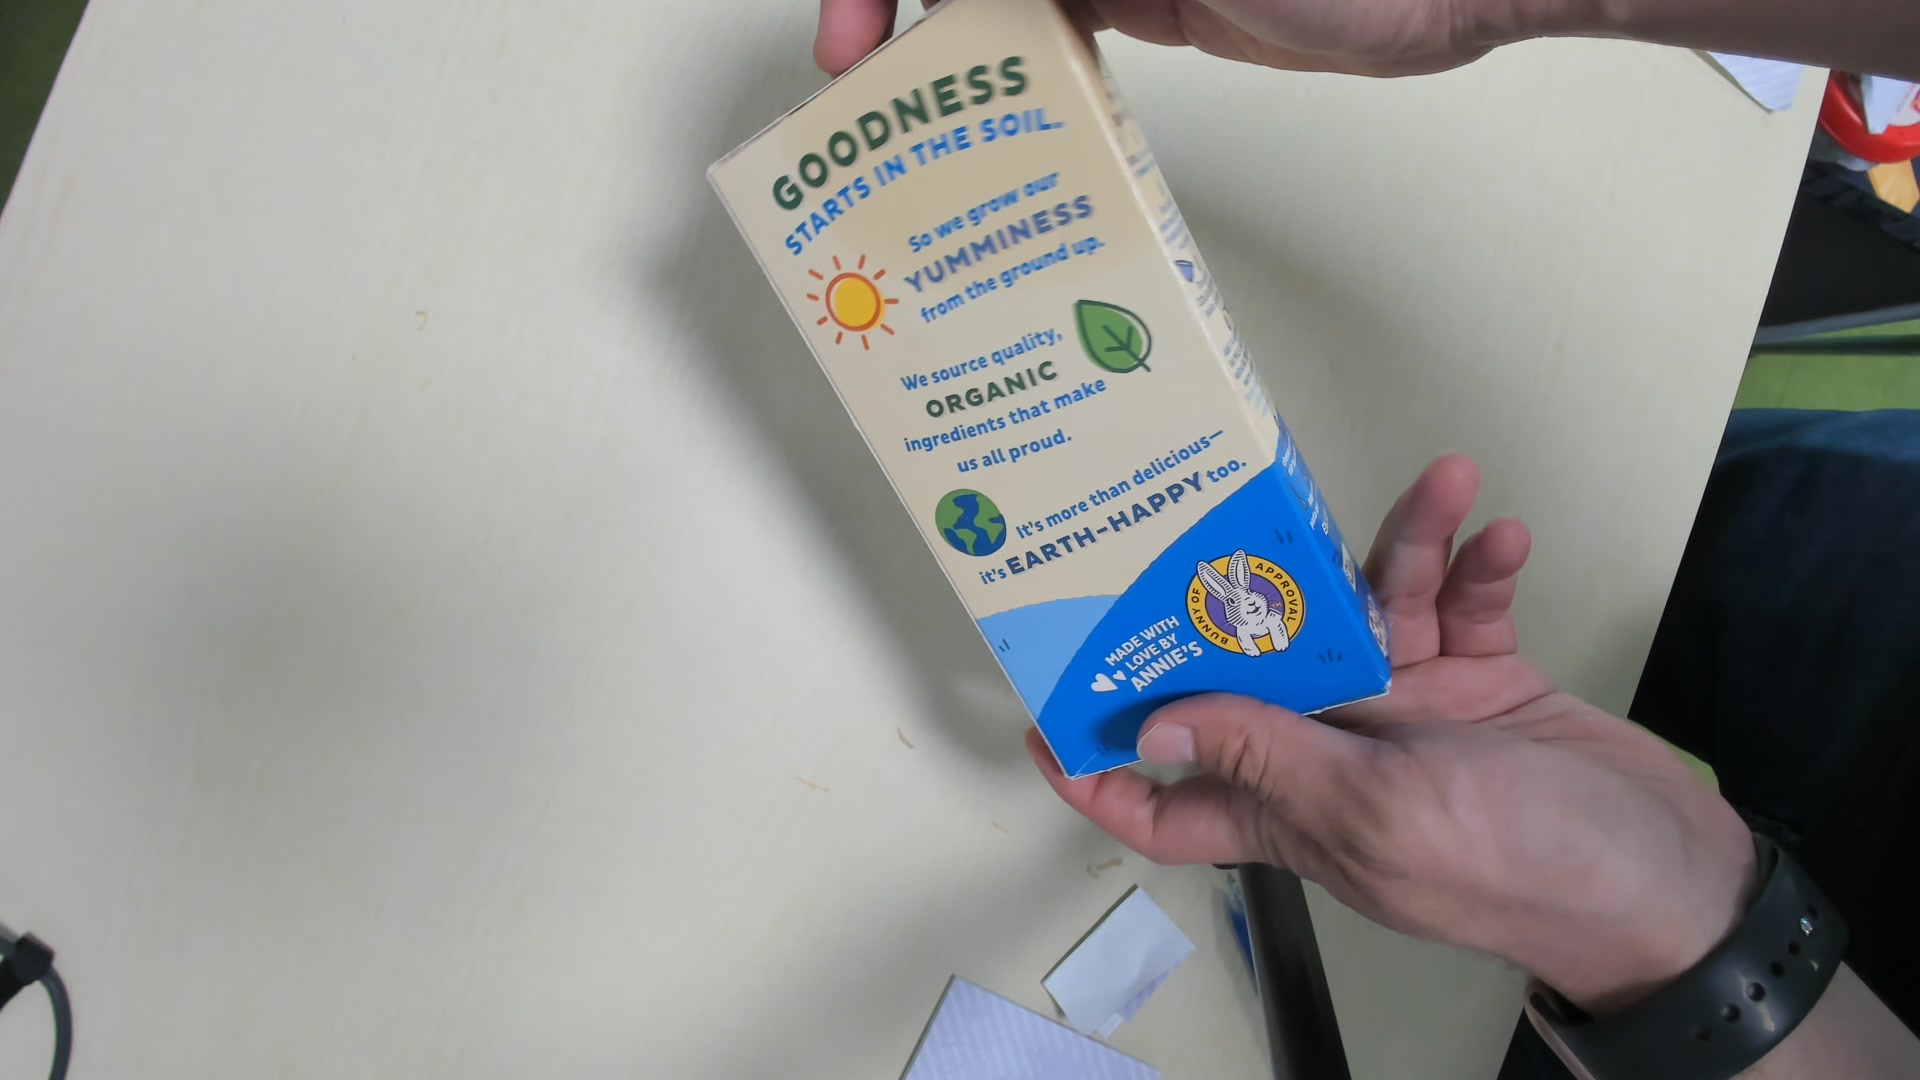InstantMeals_100_199g_NonHalal_NonHealthy: (702, 3, 1399, 781)
